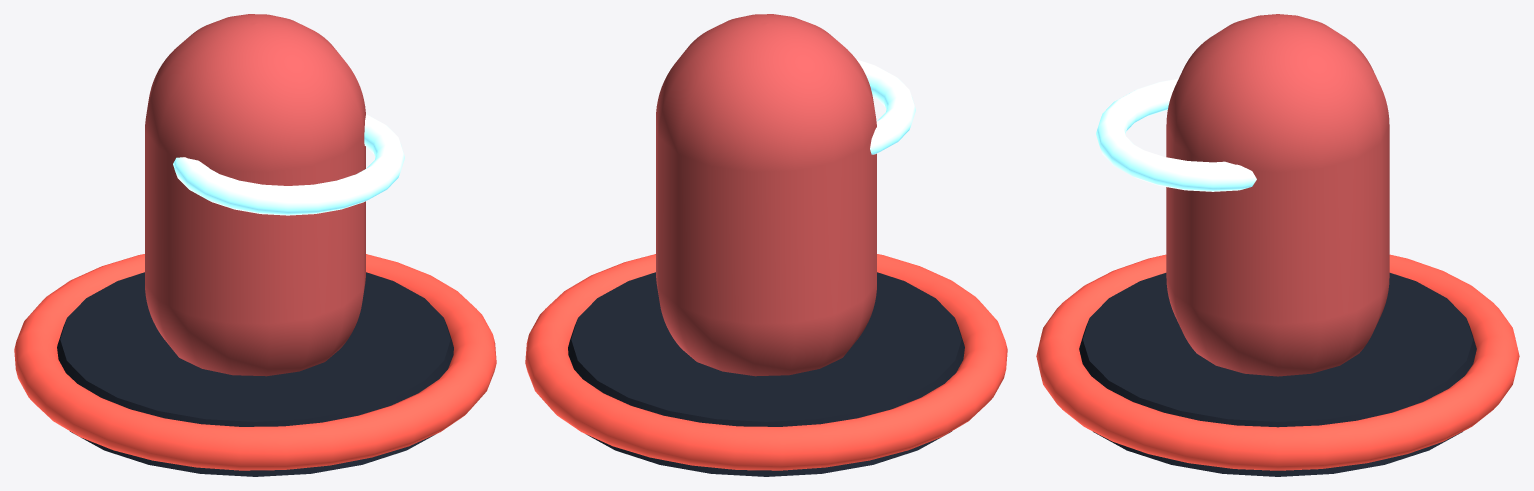
The model's file is player.glb.
The picture shows the model from 3 angles, left to right: view 1: azimuth 30°, elevation 25°; view 2: azimuth 150°, elevation 25°; view 3: azimuth 270°, elevation 25°; orthographic projection.
Size of the model in its own units: 2.6 by 2.16 by 2.6.
